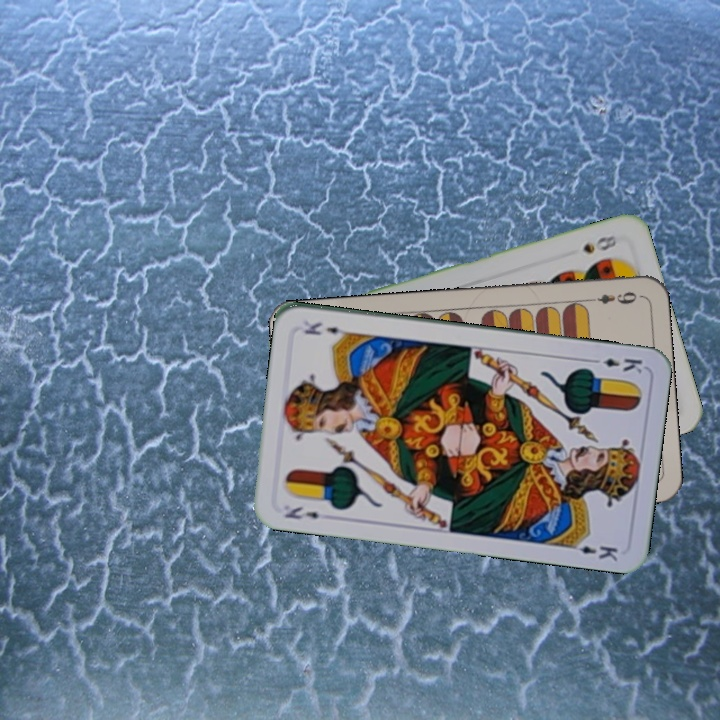E9: (583, 287, 642, 307)
EK: (586, 354, 645, 376), (281, 502, 322, 522)
S8: (579, 231, 625, 256)
